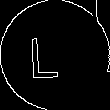L_N: (39, 29, 71, 81)
